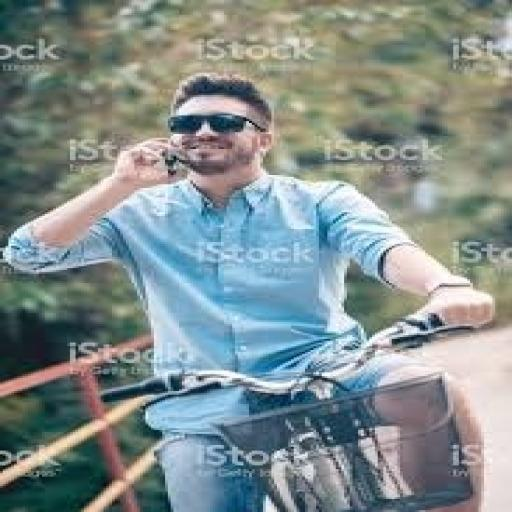calling: (3, 71, 495, 510)
